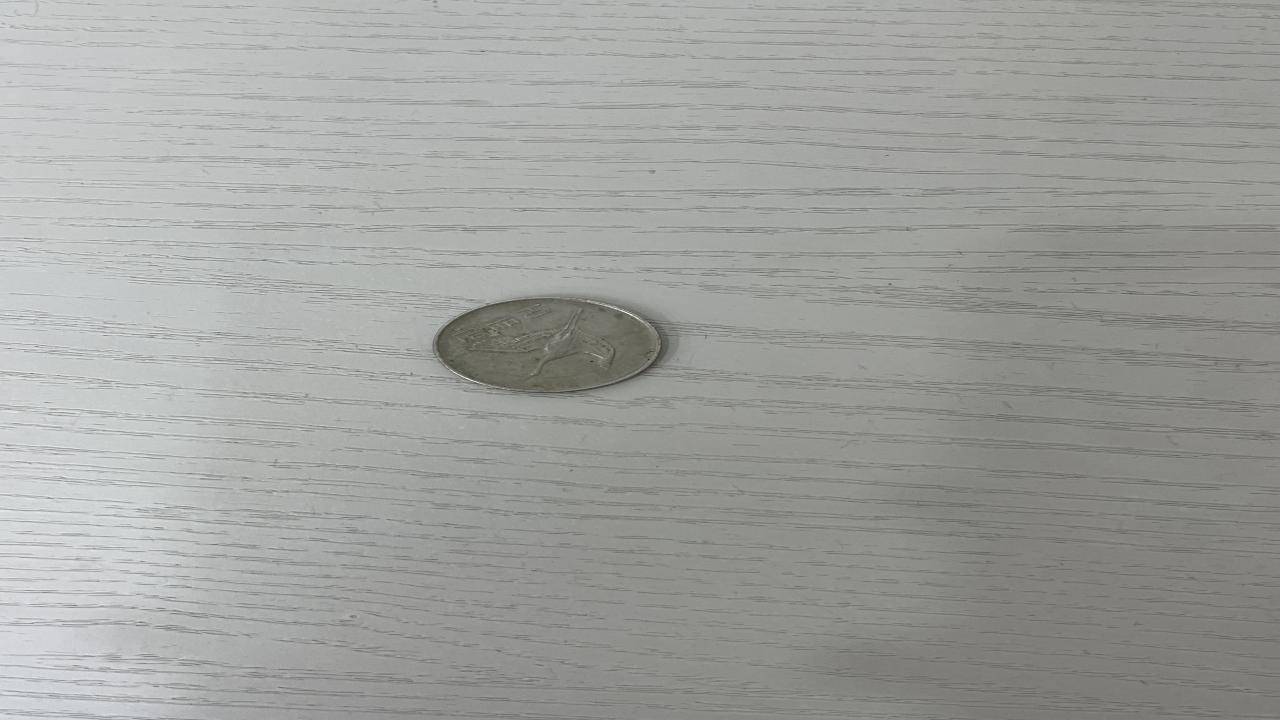coin: (425, 296, 675, 398)
